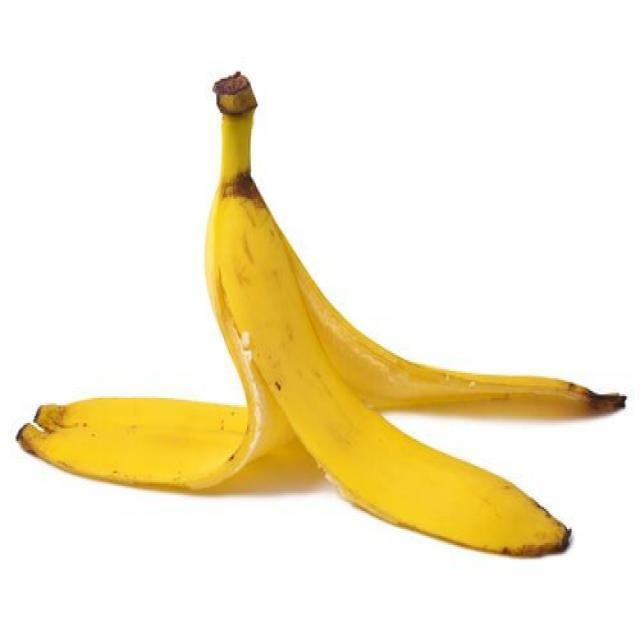banana-peel: (15, 69, 626, 558)
